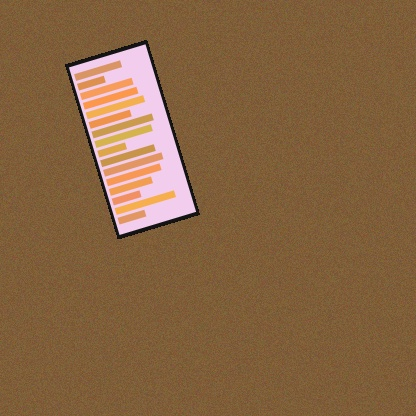cell_phone: (65, 39, 200, 239)
